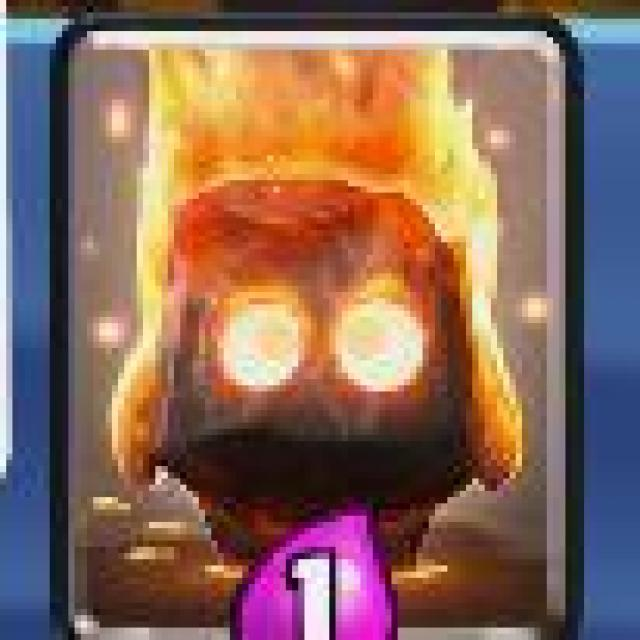Fire_Spirit: (47, 15, 582, 640)
